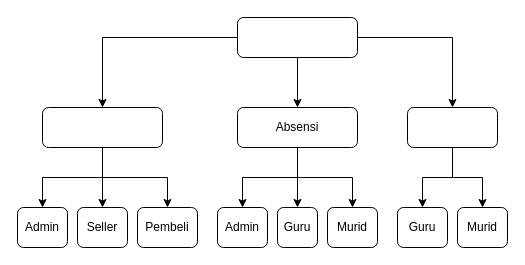
Some shapes in this 525 by 265 pixel diagram are drawn without their labels. The box of each missing label's shape, as (x1, y1, x2, y2) in pixels:
E-Point: (406, 106, 498, 148)
Schooly Store: (42, 106, 162, 148)
Web Portal: (236, 16, 358, 58)
